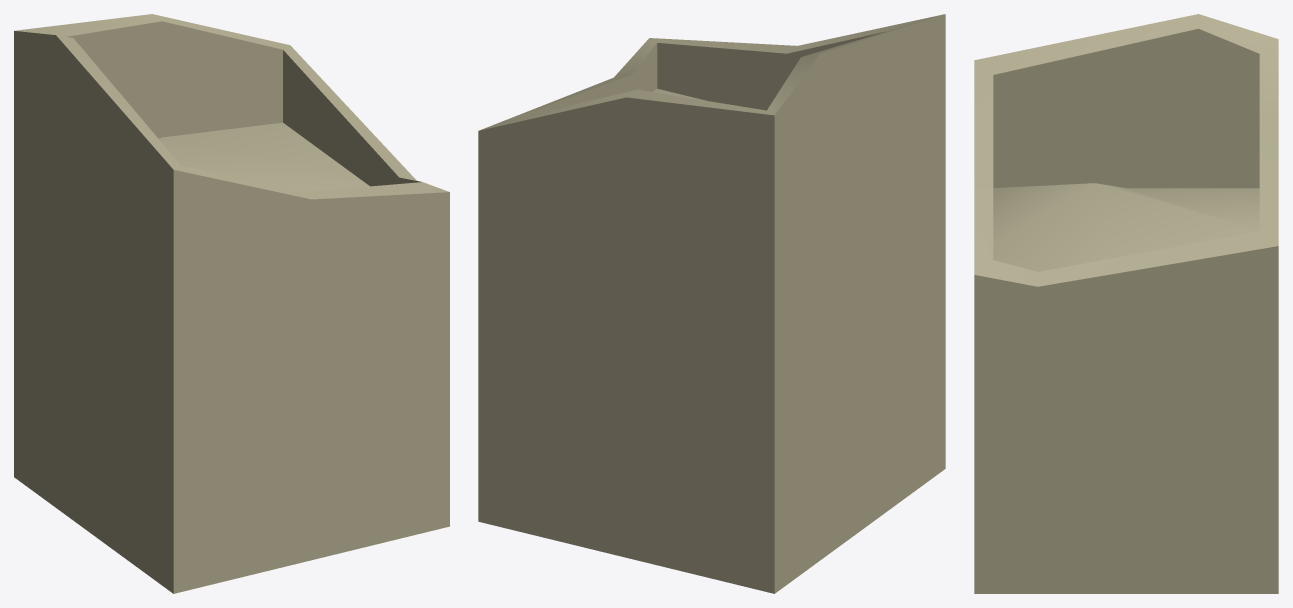
File: building_1.fbx
3 renders of one model, left to right at view 1: azimuth 30°, elevation 25°; view 2: azimuth 150°, elevation 25°; view 3: azimuth 270°, elevation 25°, orthographic. The views are drawn at different scales.
Visible parts, largest first — view 1: building_1; view 2: building_1; view 3: building_1.
Part boxes in pixels (x1,y1,x2,y2): building_1: [14, 14, 449, 593]; building_1: [478, 14, 945, 593]; building_1: [974, 14, 1278, 593].
Bounding box in the file's own units: 1460 × 2387 × 1460.
